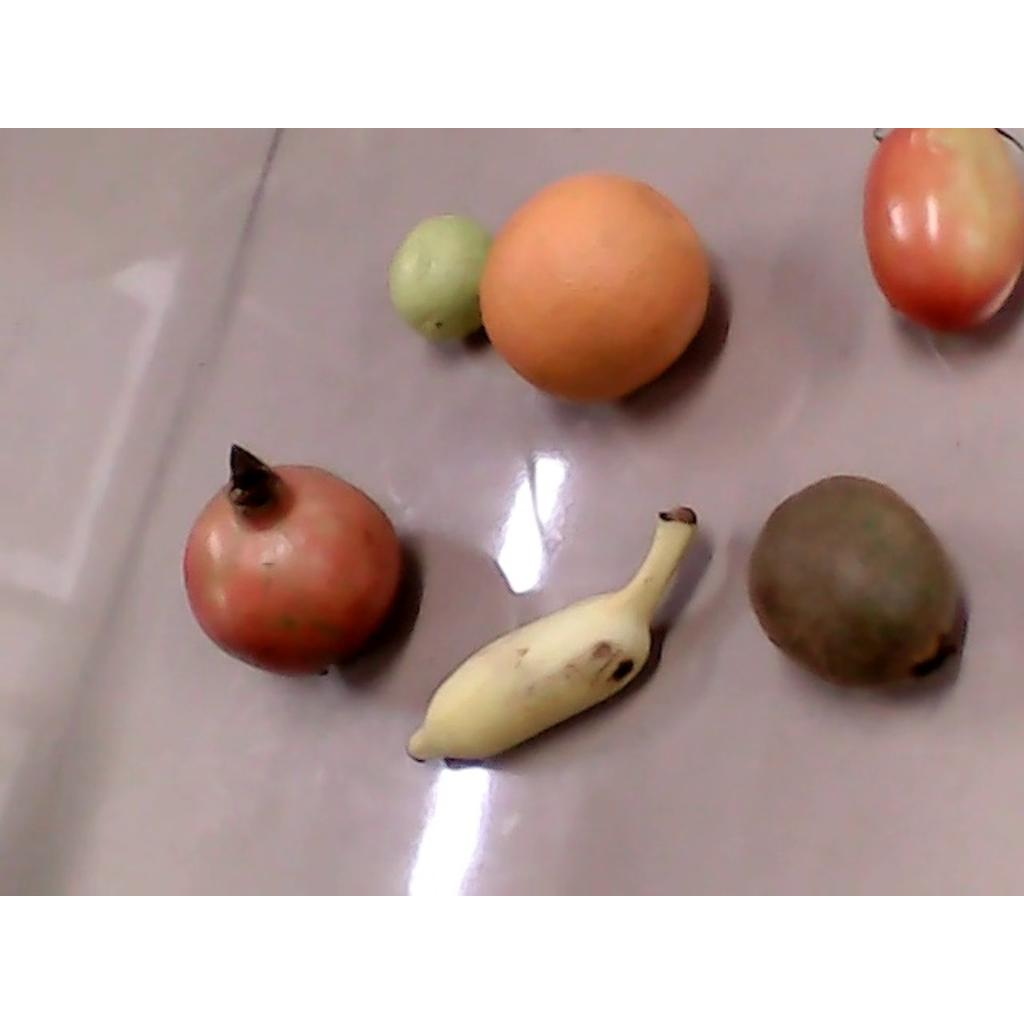kiwi: (747, 475, 960, 692)
lemon: (389, 214, 490, 342)
orange: (480, 174, 710, 404)
pomegranate: (183, 444, 400, 678)
tomato: (862, 129, 1022, 333)
